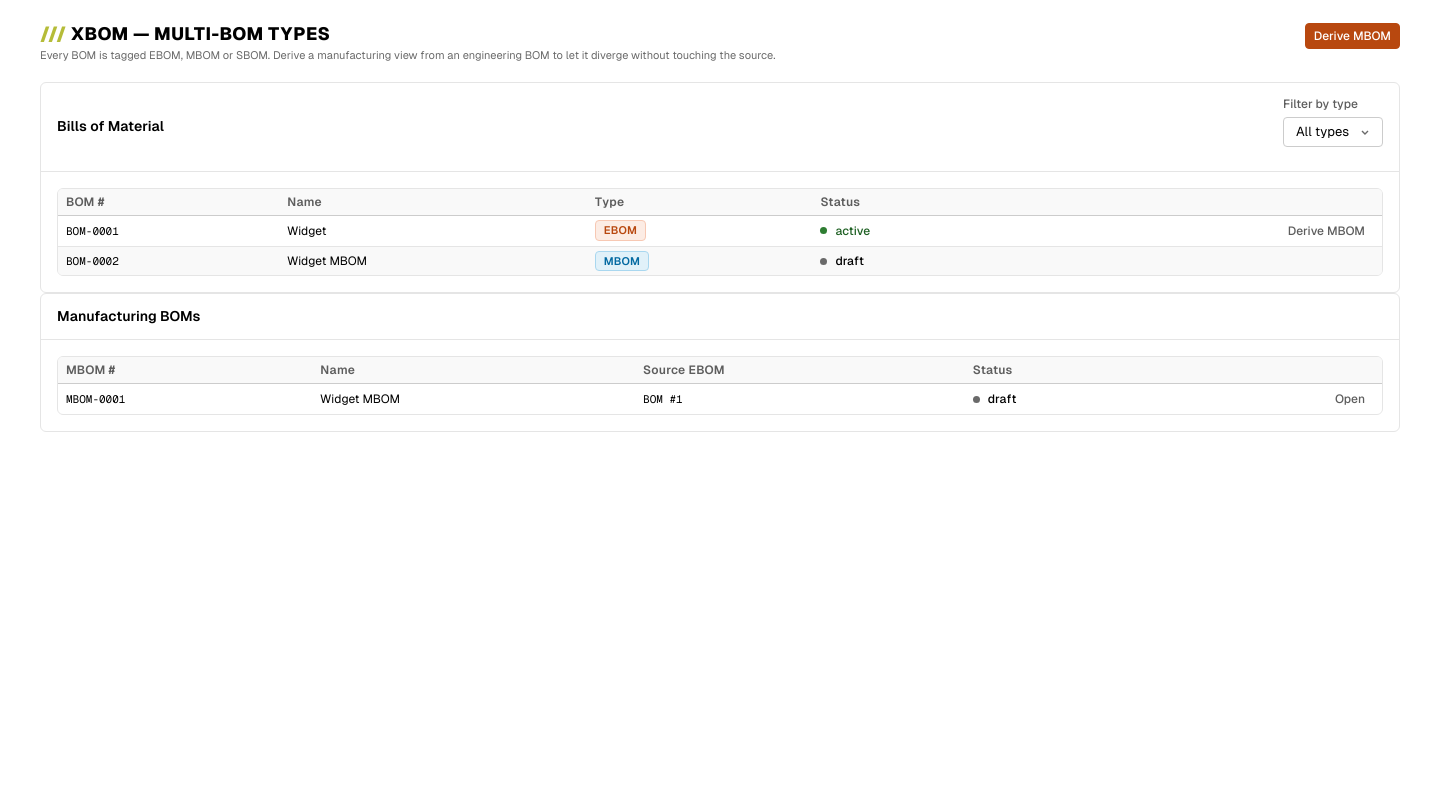
MbomScreen › derives an MBOM from an EBOM and shows the copied structure
Expected: the text "BOM-0001" is shown, [66,224,119,236]
Note: Row-level "Derive MBOM" action pre-fills the EBOM row's id.
Click the button "Derive MBOM" in the row of "active" at (1326, 230), box [1279,220,1374,242]
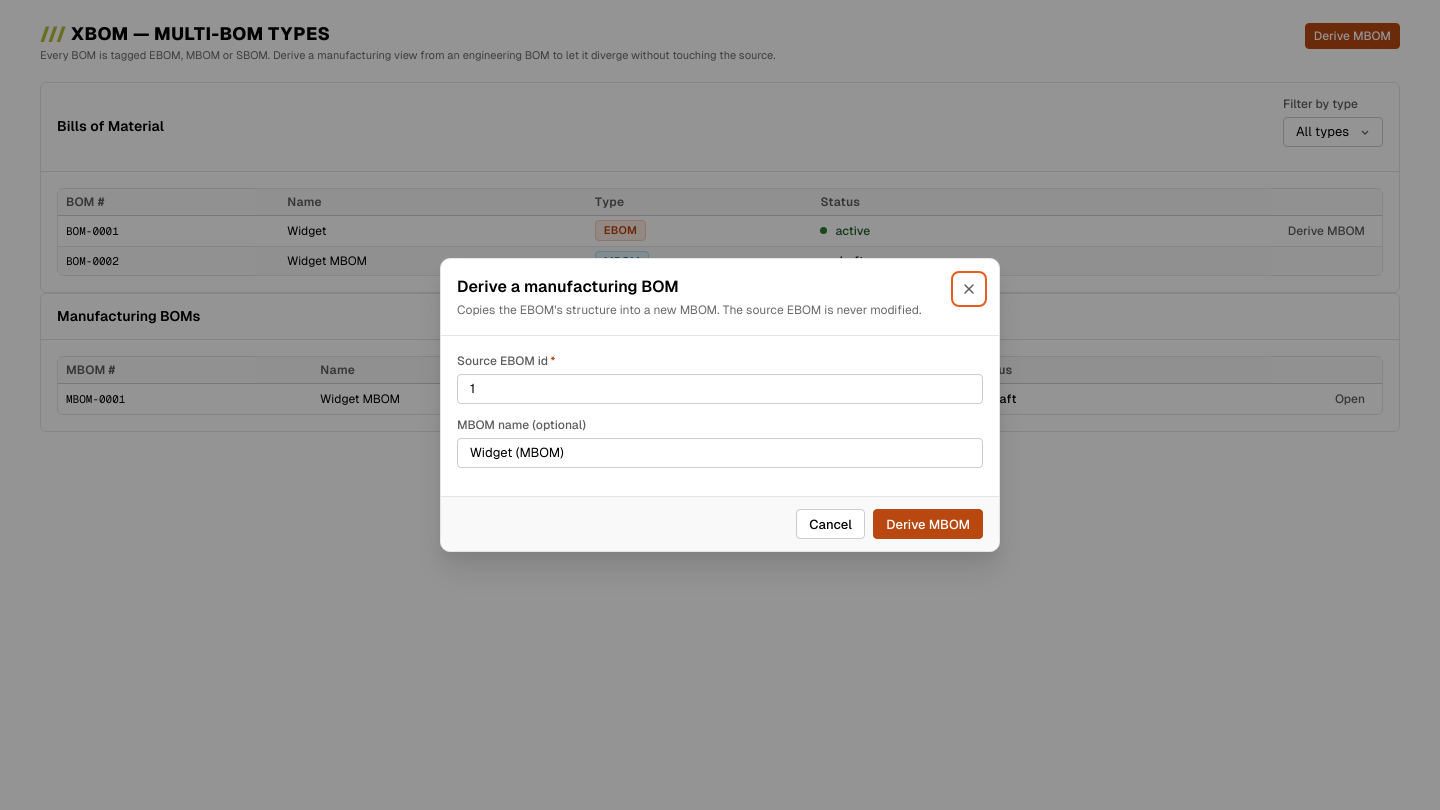
Click the button "Derive MBOM" at (928, 524), box [873,509,983,539]
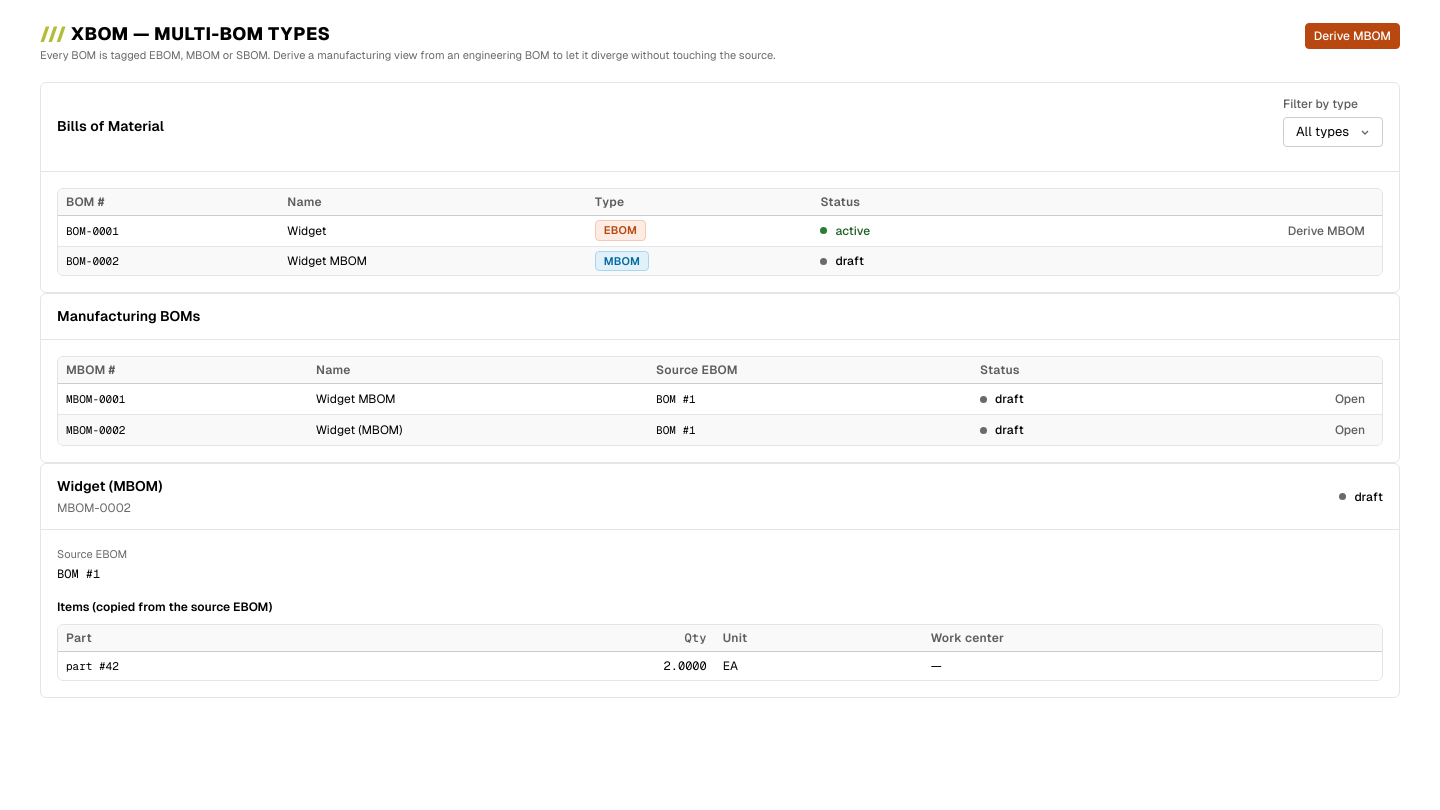
Result: the text "MBOM-0002" below "MBOM-0001" is shown at [66,424,125,436]
Result: the text "part #42" is shown at [66,660,119,672]
